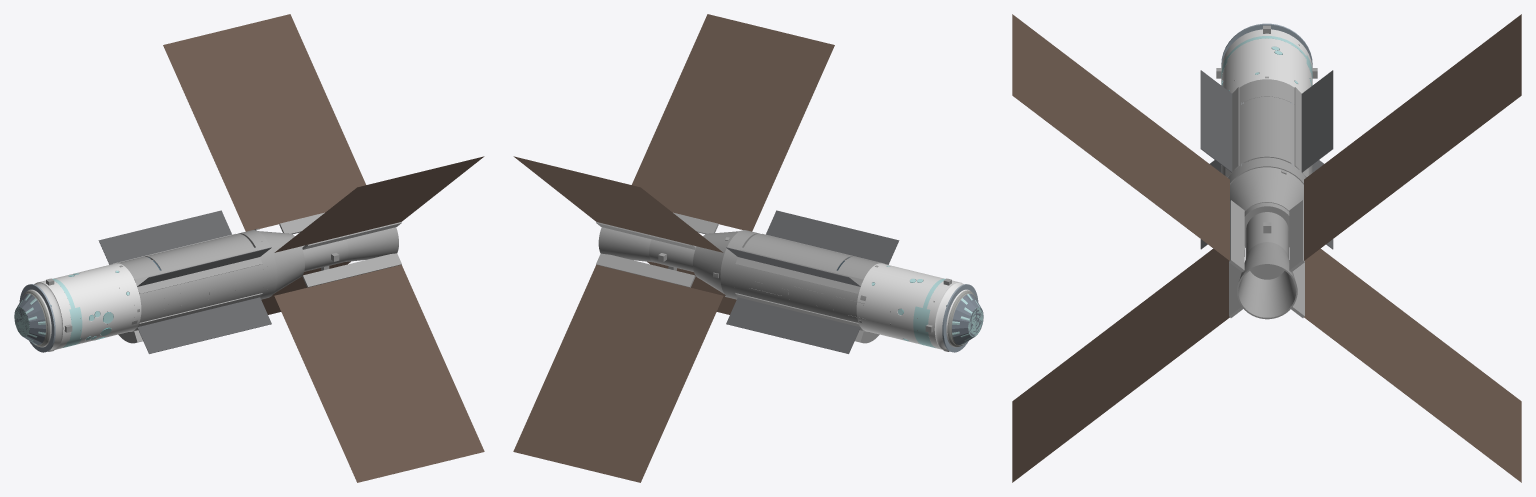
The model's file is wayfarer_full_radiator_states_88ce19fc_torch_closed.glb.
3 renders of one model, left to right at view 1: azimuth 30°, elevation 25°; view 2: azimuth 150°, elevation 25°; view 3: azimuth 270°, elevation 25°, orthographic. The views are drawn at different scales.
Visible parts, largest first — view 1: dry:armor, dry:skin_midship, dry:hotfin_220:pleat_13, dry:hotfin_40:pleat_04, dry:hotfin_220:pleat_09, dry:hotfin_40:pleat_02, dry:hotfin_220:pleat_04, dry:hotfin_220:pleat_07, dry:hotfin_220:pleat_11, dry:hotfin_40:pleat_03, dry:hotfin_40:pleat_05, dry:hotfin_40:pleat_08 (+47 smaller); view 2: dry:armor, dry:skin_midship, dry:hotfin_320:pleat_13, dry:hotfin_140:pleat_04, dry:hotfin_320:pleat_09, dry:hotfin_140:pleat_02, dry:hotfin_320:pleat_04, dry:hotfin_320:pleat_07, dry:hotfin_320:pleat_11, dry:hotfin_140:pleat_03, dry:hotfin_140:pleat_05, dry:hotfin_140:pleat_08 (+47 smaller); view 3: dry:armor, dry:nozzle, dry:thrust_cone, dry:reactor, dry:door_port, dry:door_starboard, dry:hotfin_220:pleat_03, dry:hotfin_320:pleat_03, dry:hotfin_40:pleat_05, dry:hotfin_40:pleat_07, dry:hotfin_140:pleat_05, dry:hotfin_140:pleat_07 (+63 smaller).
Boxes of the visible parts, bbox=[...] form: dry:armor: bbox=[23, 263, 141, 350]; dry:skin_midship: bbox=[160, 247, 263, 316]; dry:hotfin_220:pleat_13: bbox=[351, 438, 484, 482]; dry:hotfin_40:pleat_04: bbox=[216, 134, 349, 178]; dry:hotfin_220:pleat_09: bbox=[327, 385, 460, 429]; dry:hotfin_40:pleat_02: bbox=[228, 161, 361, 205]; dry:hotfin_220:pleat_04: bbox=[298, 318, 431, 362]; dry:hotfin_220:pleat_07: bbox=[316, 358, 448, 402]; dry:hotfin_220:pleat_11: bbox=[339, 412, 472, 455]; dry:hotfin_40:pleat_03: bbox=[222, 147, 355, 191]; dry:hotfin_40:pleat_05: bbox=[210, 121, 343, 165]; dry:hotfin_40:pleat_08: bbox=[193, 81, 325, 125]; dry:armor: bbox=[856, 263, 974, 350]; dry:skin_midship: bbox=[734, 247, 837, 316]; dry:hotfin_320:pleat_13: bbox=[513, 438, 646, 482]; dry:hotfin_140:pleat_04: bbox=[648, 134, 781, 178]; dry:hotfin_320:pleat_09: bbox=[537, 385, 670, 429]; dry:hotfin_140:pleat_02: bbox=[636, 161, 769, 205]; dry:hotfin_320:pleat_04: bbox=[566, 318, 699, 362]; dry:hotfin_320:pleat_07: bbox=[549, 358, 681, 402]; dry:hotfin_320:pleat_11: bbox=[525, 412, 658, 455]; dry:hotfin_140:pleat_03: bbox=[642, 147, 775, 191]; dry:hotfin_140:pleat_05: bbox=[654, 121, 787, 165]; dry:hotfin_140:pleat_08: bbox=[672, 81, 804, 125]; dry:armor: bbox=[1221, 29, 1312, 93]; dry:nozzle: bbox=[1237, 242, 1297, 319]; dry:thrust_cone: bbox=[1230, 167, 1303, 247]; dry:reactor: bbox=[1245, 212, 1288, 279]; dry:door_port: bbox=[1242, 97, 1266, 163]; dry:door_starboard: bbox=[1267, 97, 1291, 163]; dry:hotfin_220:pleat_03: bbox=[1167, 271, 1183, 364]; dry:hotfin_320:pleat_03: bbox=[1350, 271, 1366, 364]; dry:hotfin_40:pleat_05: bbox=[1381, 109, 1397, 201]; dry:hotfin_40:pleat_07: bbox=[1412, 85, 1428, 177]; dry:hotfin_140:pleat_05: bbox=[1136, 109, 1152, 201]; dry:hotfin_140:pleat_07: bbox=[1105, 85, 1121, 177].
Size of the model in its own units: 54.5 by 42.11 by 50.18.
